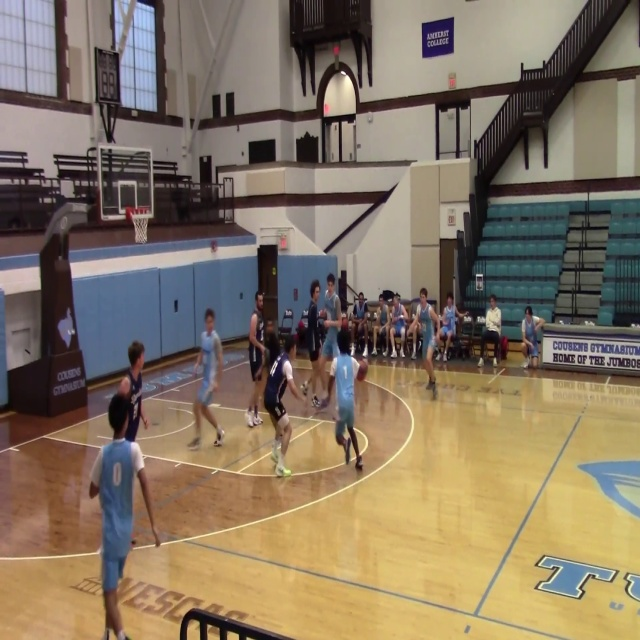Basketball: (108, 393, 133, 429), (118, 377, 132, 398), (356, 358, 368, 381), (318, 309, 327, 320)
